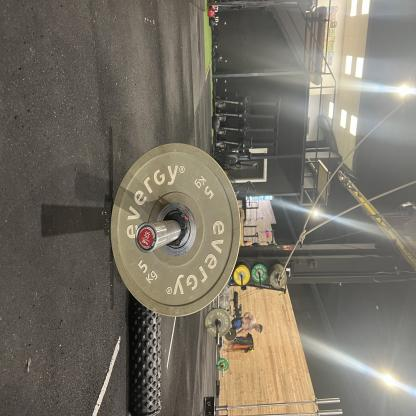barbell: (109, 234, 239, 409)
